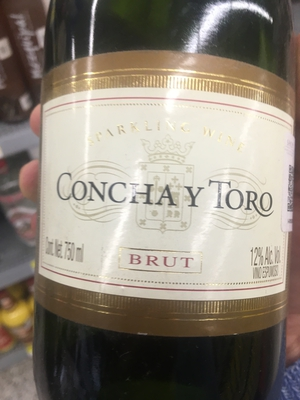brut: (35, 14, 297, 400)
